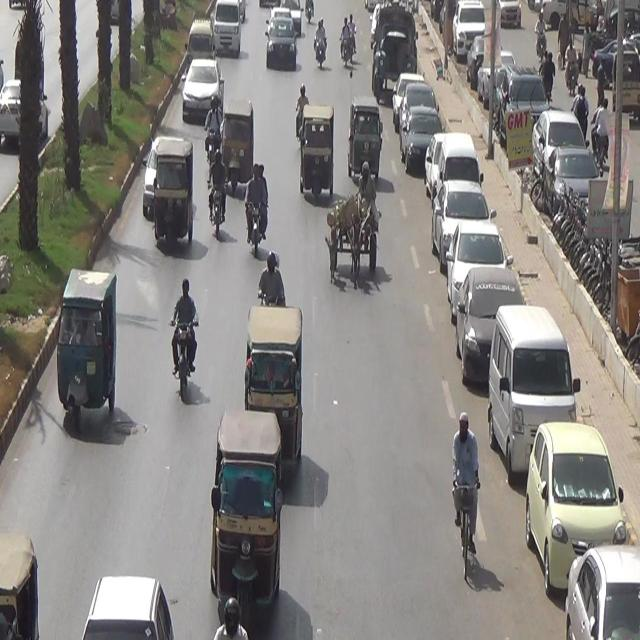car: (174, 48, 223, 114), (264, 13, 302, 74), (215, 0, 242, 59)
motorbike: (449, 401, 494, 588), (170, 273, 198, 411), (242, 148, 271, 258), (207, 143, 229, 249), (340, 9, 360, 79), (314, 12, 327, 62)
truck: (328, 156, 384, 292)
